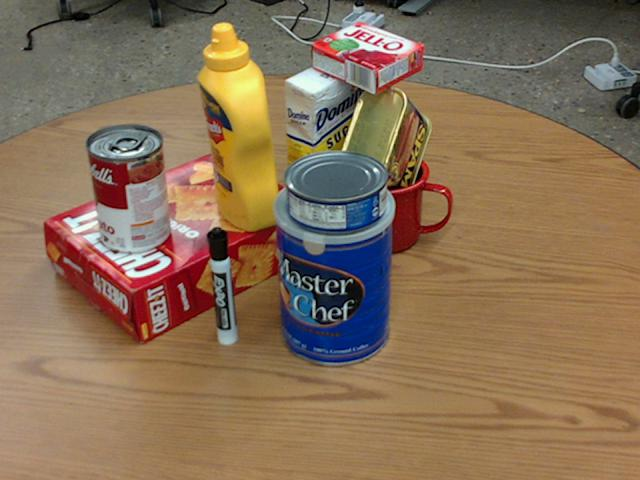cracker_box: (47, 153, 314, 344)
gelatin_box: (309, 22, 422, 93)
large_marker: (208, 227, 238, 345)
master_chef_can: (270, 170, 391, 364)
mug: (342, 147, 453, 253)
mustard_bottle: (196, 23, 281, 230)
potted_meat_can: (337, 85, 429, 204)
sugar_box: (285, 52, 371, 237)
tomato_soup_can: (86, 124, 170, 253)
tuna_fish_can: (282, 149, 387, 232)
